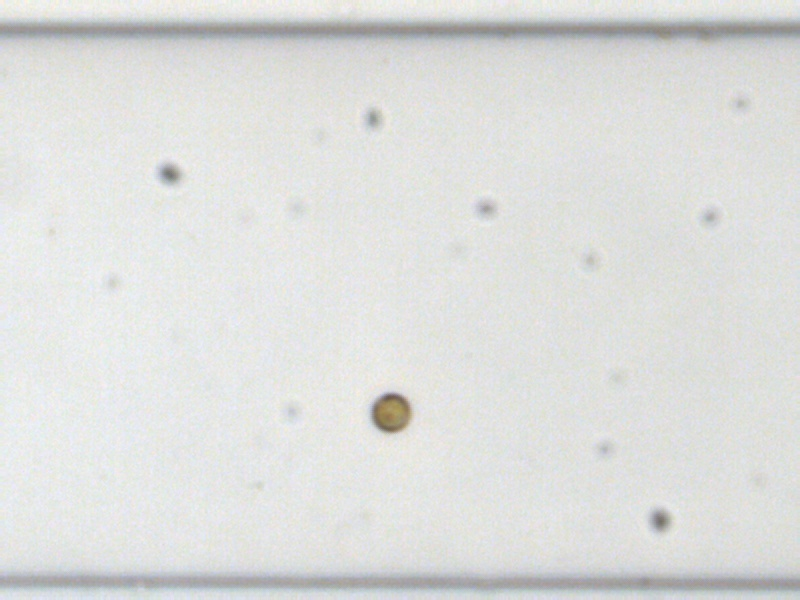Effrenium: (368, 390, 411, 433)
